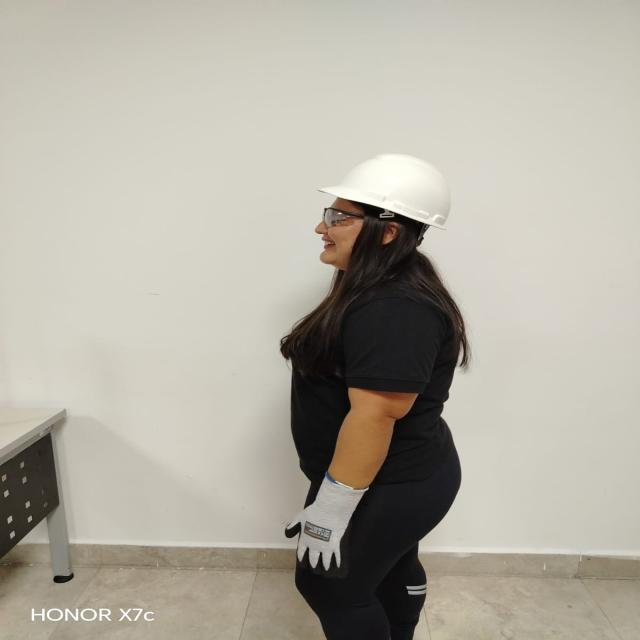gloves: (285, 474, 369, 572)
helmet: (317, 153, 453, 230)
protective_glasses: (322, 207, 370, 228)
